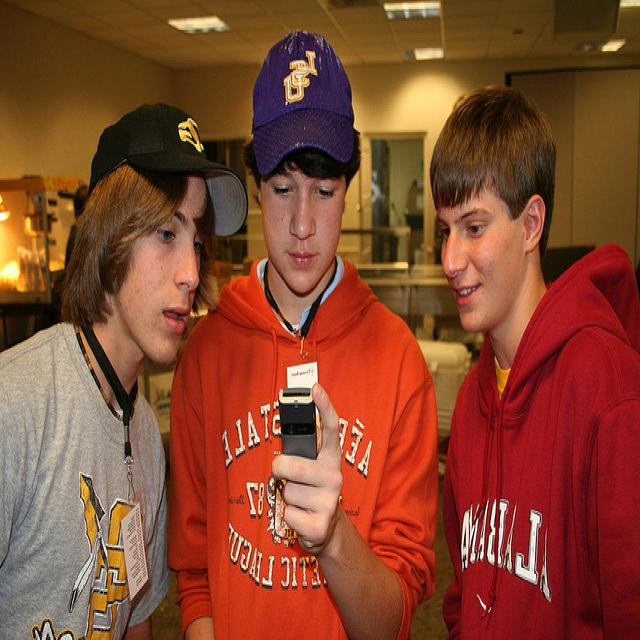phone: (276, 384, 318, 494)
